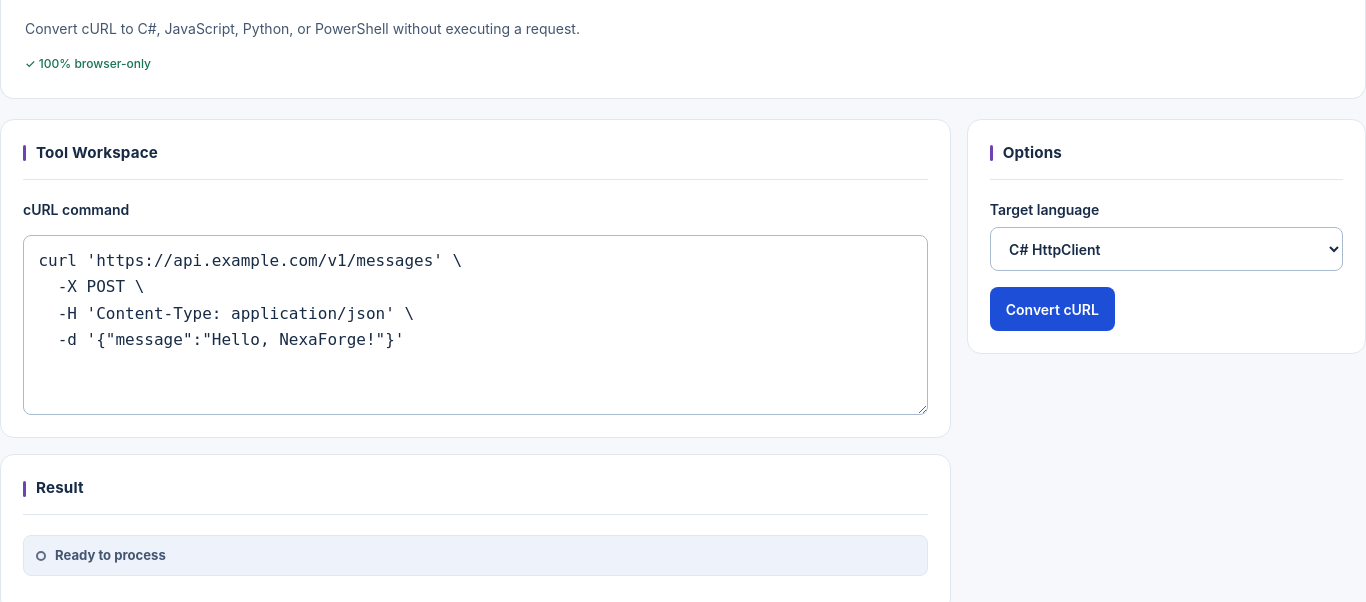
CurlToCodePage › converts cURL to C# and shows non-blocking warnings
Step 1. Replace the text in the text box labelled "cURL command" with "curl https://example.com/api" → (475, 325), box 23,235 -> 928,415
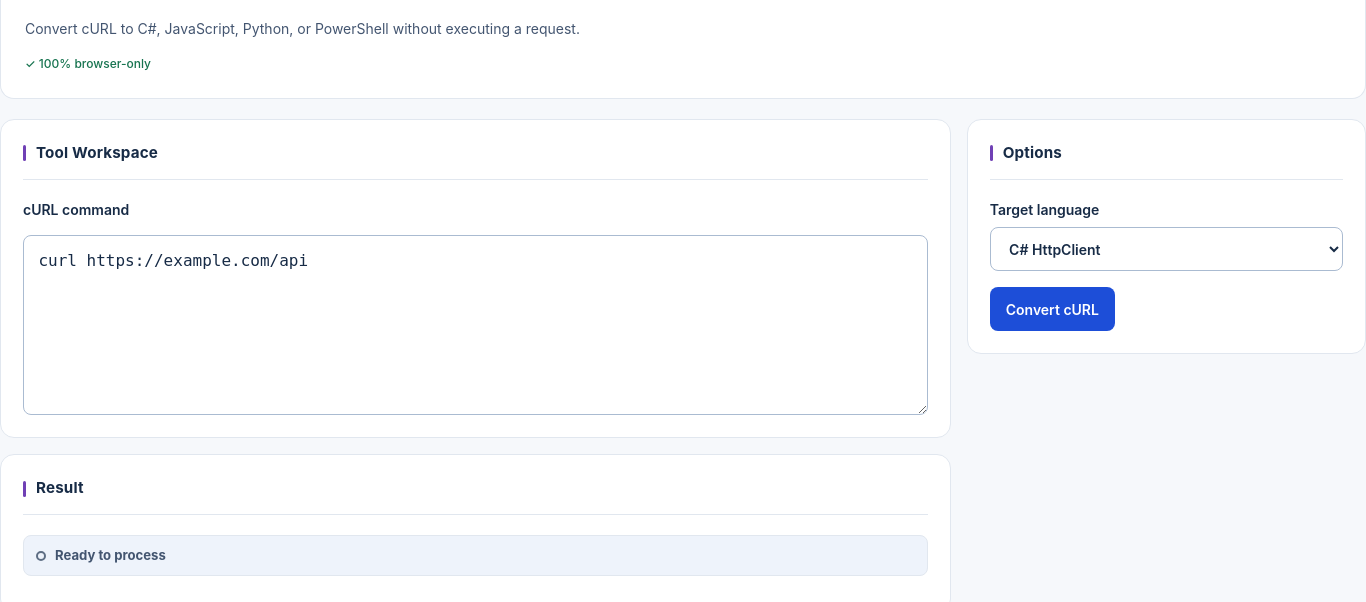
Step 2. Select "C# HttpClient" in the dropdown labelled "Target language" → (1166, 249), box 990,227 -> 1343,271
Step 3. Click the button "Convert cURL" → click(1052, 309), box 990,287 -> 1115,331
(page scrolled)
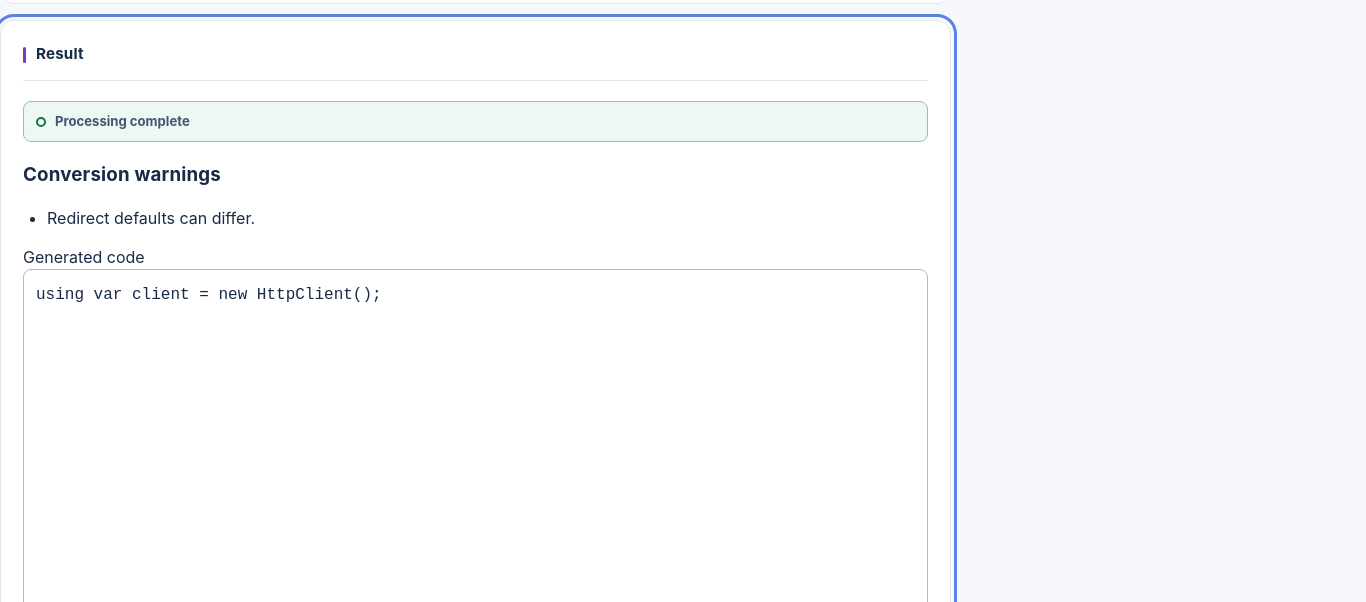
Check: the list item "Redirect defaults can differ." is shown, box 47,208 -> 255,228
